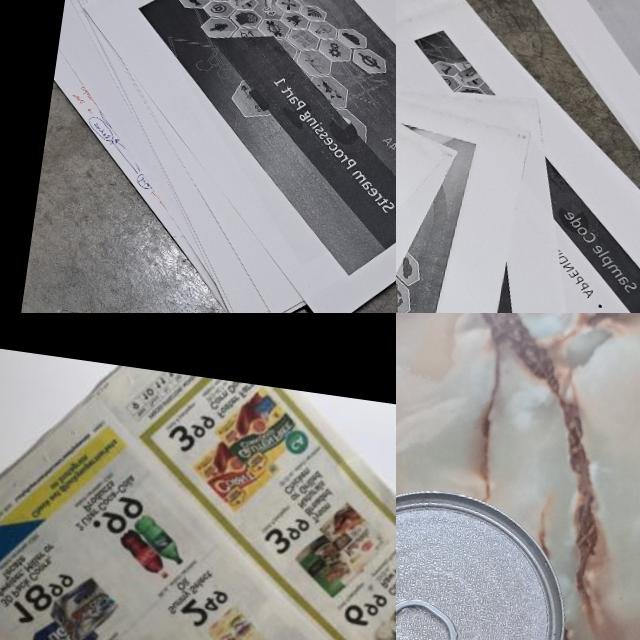aba de lata: (396, 590, 462, 640)
lata: (396, 477, 576, 640)
papel: (0, 331, 396, 640), (22, 0, 396, 313), (396, 0, 640, 313), (497, 0, 640, 200)
